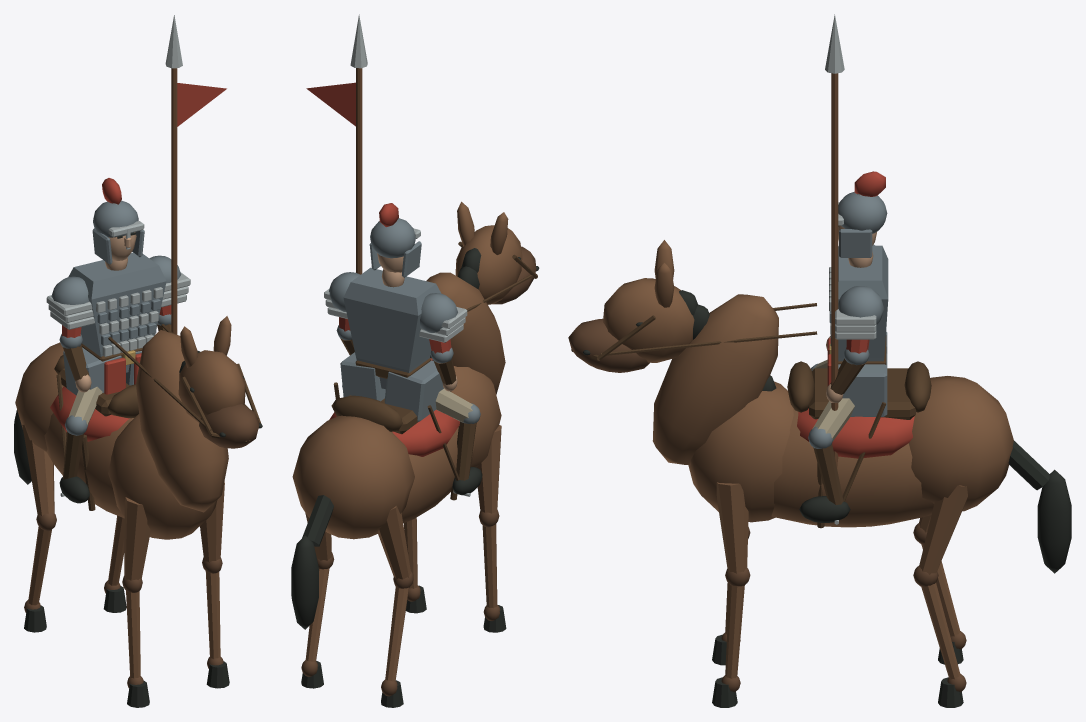
The model's file is cavalry.glb.
3 views of the same model, side by side, from view 1: azimuth 30°, elevation 25°; view 2: azimuth 150°, elevation 25°; view 3: azimuth 270°, elevation 25° (orthographic). The views are drawn at different scales.
Visible parts, largest first — view 1: geometry_cavalry, geometry_rider, geometry_arm_right.001, geometry_horse_leg_-1_-1, geometry_horse_leg_-1_1, geometry_rider_rein_arm, geometry_horse_leg_1_-1, geometry_horse_leg_1_1; view 2: geometry_cavalry, geometry_rider, geometry_arm_right.001, geometry_horse_leg_-1_1, geometry_horse_leg_-1_-1, geometry_rider_rein_arm, geometry_horse_leg_1_1, geometry_horse_leg_1_-1; view 3: geometry_cavalry, geometry_rider, geometry_arm_right.001, geometry_horse_leg_1_-1, geometry_horse_leg_1_1, geometry_horse_leg_-1_1.
Part boxes in pixels (left/top/right/bottom): geometry_cavalry: left=14, top=316, right=262, bottom=539; geometry_rider: left=56, top=178, right=166, bottom=503; geometry_arm_right.001: left=149, top=15, right=226, bottom=334; geometry_horse_leg_-1_-1: left=122, top=497, right=150, bottom=707; geometry_horse_leg_-1_1: left=22, top=424, right=56, bottom=632; geometry_rider_rein_arm: left=46, top=276, right=94, bottom=392; geometry_horse_leg_1_-1: left=200, top=481, right=229, bottom=688; geometry_horse_leg_1_1: left=103, top=515, right=126, bottom=612; geometry_cavalry: left=291, top=201, right=539, bottom=629; geometry_rider: left=333, top=203, right=482, bottom=496; geometry_arm_right.001: left=306, top=14, right=367, bottom=355; geometry_horse_leg_-1_1: left=377, top=506, right=413, bottom=707; geometry_horse_leg_-1_-1: left=477, top=425, right=506, bottom=632; geometry_rider_rein_arm: left=419, top=293, right=467, bottom=391; geometry_horse_leg_1_1: left=301, top=513, right=334, bottom=688; geometry_horse_leg_1_-1: left=404, top=517, right=426, bottom=613; geometry_cavalry: left=568, top=240, right=1071, bottom=573; geometry_rider: left=799, top=171, right=888, bottom=524; geometry_arm_right.001: left=825, top=14, right=884, bottom=468; geometry_horse_leg_1_-1: left=712, top=482, right=750, bottom=707; geometry_horse_leg_1_1: left=913, top=485, right=967, bottom=707; geometry_horse_leg_-1_1: left=913, top=515, right=966, bottom=664.
Bounding box in the file's own units: 1.07 × 3.86 × 2.54.
